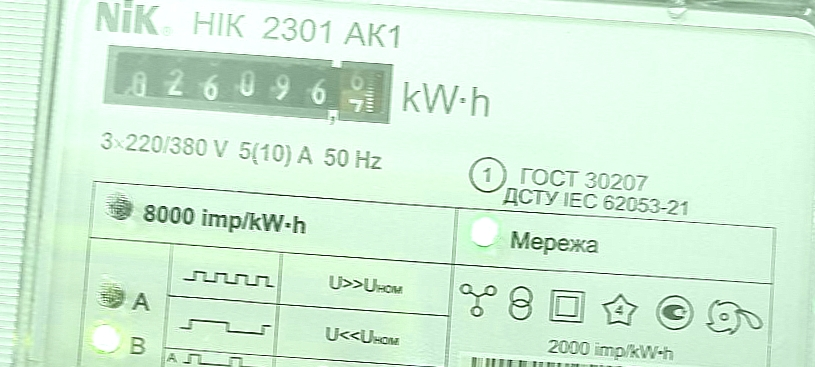0: (235, 63, 257, 99), (126, 64, 149, 97)
2: (162, 62, 186, 99)
6: (199, 67, 221, 103), (307, 71, 328, 105), (345, 64, 366, 92)
7: (345, 93, 364, 115)
9: (270, 69, 292, 102)
screen: (91, 33, 401, 134)
